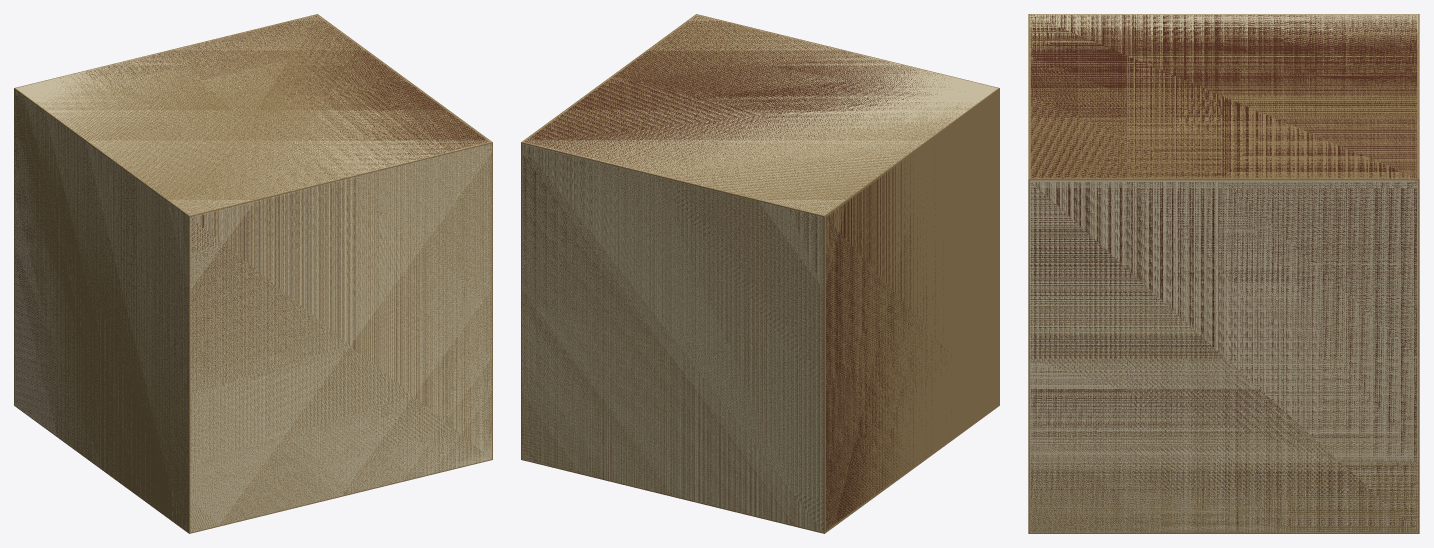
File: Book_Variant_05.fbx
3 renders of one model, left to right at view 1: azimuth 30°, elevation 25°; view 2: azimuth 150°, elevation 25°; view 3: azimuth 270°, elevation 25°, orthographic. The views are drawn at different scales.
Parts seen in each view (by area): view 1: Gilded title line.258, Book pages.125, Raised spine band.408, Rounded book spine.125; view 2: Gilded title line.258, Book pages.125, Raised spine band.408, Rounded book spine.125; view 3: Book pages.125, Rounded book spine.125, Gilded title line.258, Raised spine band.408.
Boxes of the visible parts, x1,y1,x2,y2 form: Gilded title line.258: (14,14,492,533); Book pages.125: (14,15,491,532); Raised spine band.408: (14,15,492,532); Rounded book spine.125: (15,15,488,468); Gilded title line.258: (521,14,999,533); Book pages.125: (522,15,997,532); Raised spine band.408: (521,15,999,532); Rounded book spine.125: (523,16,951,530); Book pages.125: (1029,14,1418,532); Rounded book spine.125: (1031,15,1416,531); Gilded title line.258: (1028,14,1419,533); Raised spine band.408: (1029,14,1418,469).
Size of the model in its own units: 1 by 1 by 1.
